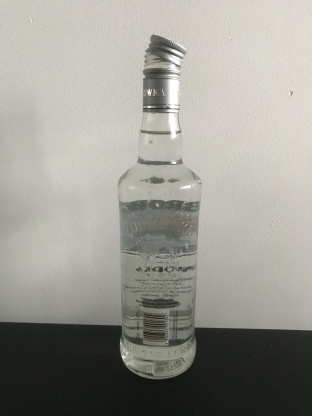nakretka: (140, 31, 188, 113)
